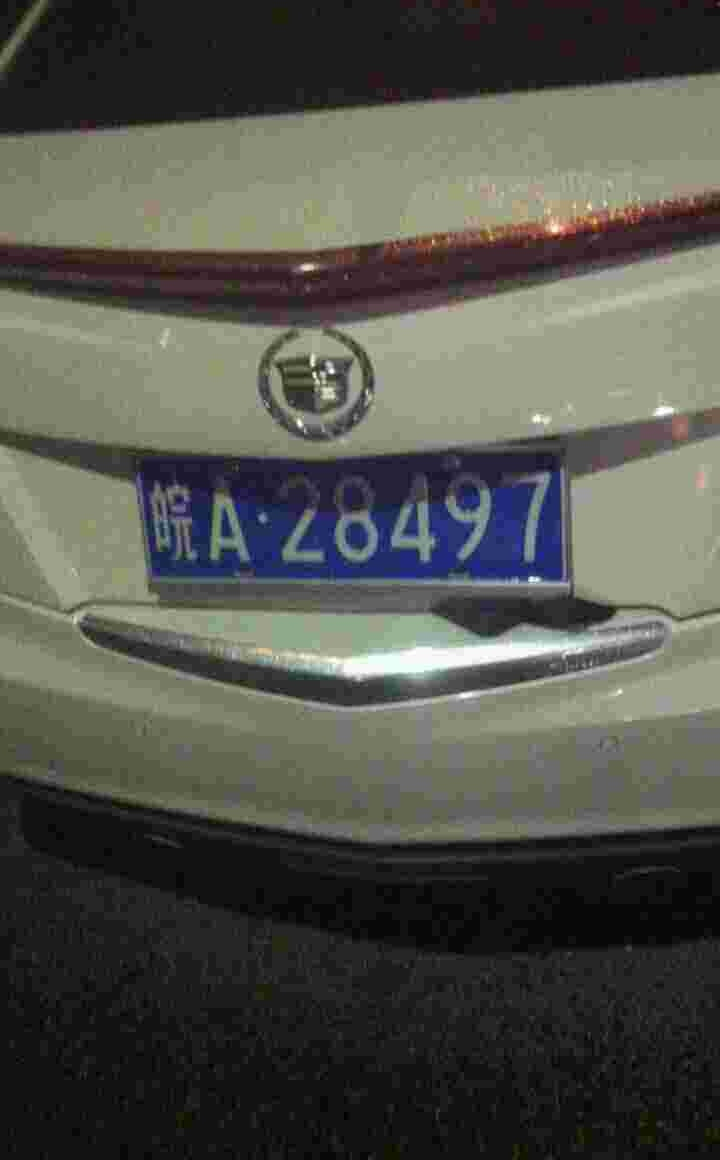license_plate: (127, 454, 588, 583)
